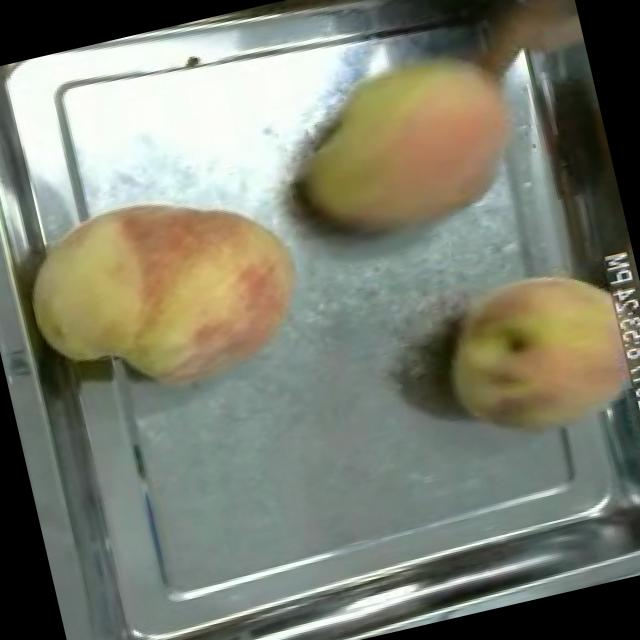Fruit: (2, 160, 328, 428), (266, 21, 550, 264), (419, 243, 640, 464)
